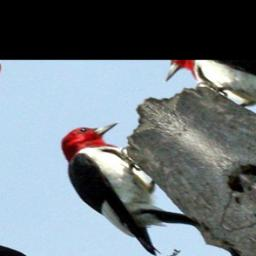Woodpecker: (29, 105, 229, 256)
